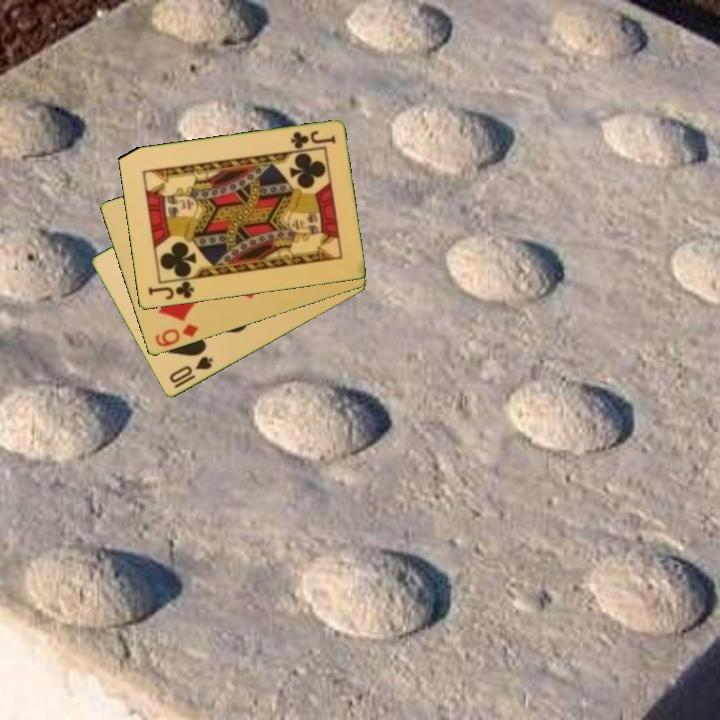10s: (165, 353, 216, 386)
6d: (151, 321, 202, 350)
Jc: (144, 278, 197, 303), (287, 127, 338, 152)
